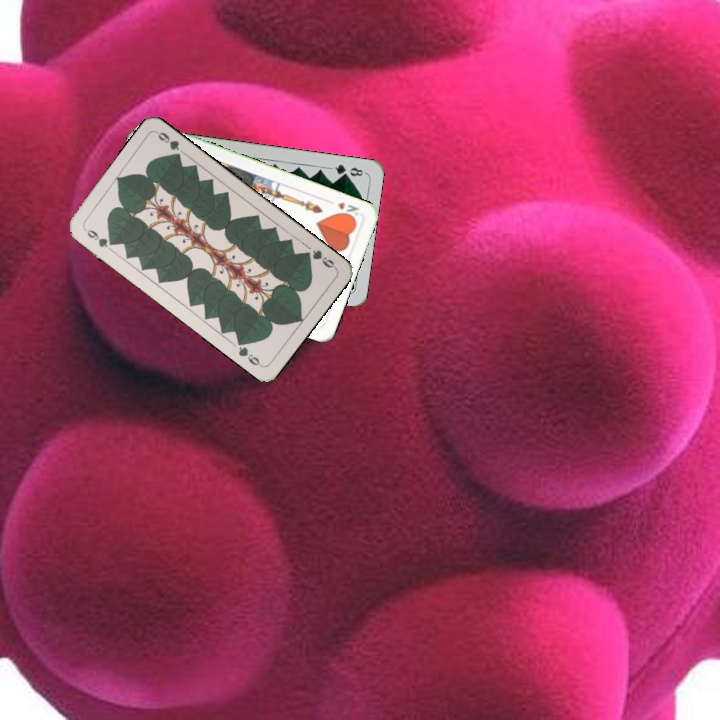G8: (327, 160, 368, 179)
G9: (300, 245, 339, 271), (80, 225, 118, 251)
HK: (334, 198, 362, 222)
